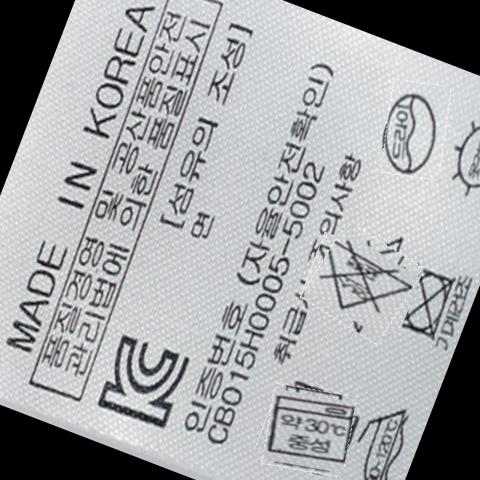30C: (267, 397, 360, 458)
DN_tumble_dry: (400, 263, 475, 345)
dry_clean: (376, 95, 446, 176)
iron_low: (355, 403, 422, 480)
non_chlorine_bleach: (322, 250, 414, 309)
